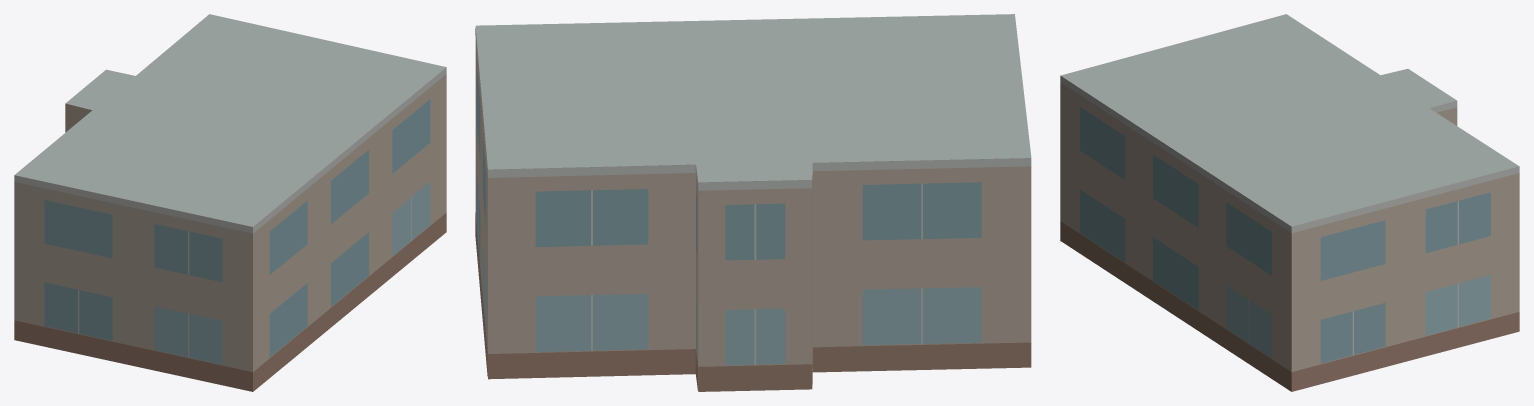
Rendered from survey-upis-32623869.glb.
3 views of the same model, side by side, from view 1: azimuth 30°, elevation 25°; view 2: azimuth 150°, elevation 25°; view 3: azimuth 270°, elevation 25° (orthographic). The views are drawn at different scales.
Visible parts, largest first — view 1: survey-upis-32623869.tmp; view 2: survey-upis-32623869.tmp; view 3: survey-upis-32623869.tmp.
Part boxes in pixels (x1=…): survey-upis-32623869.tmp: x1=14, y1=14, x2=446, y2=391; survey-upis-32623869.tmp: x1=475, y1=14, x2=1031, y2=391; survey-upis-32623869.tmp: x1=1060, y1=14, x2=1519, y2=391.
Bounding box in the file's own units: 16.85 × 6.1 × 15.37.
